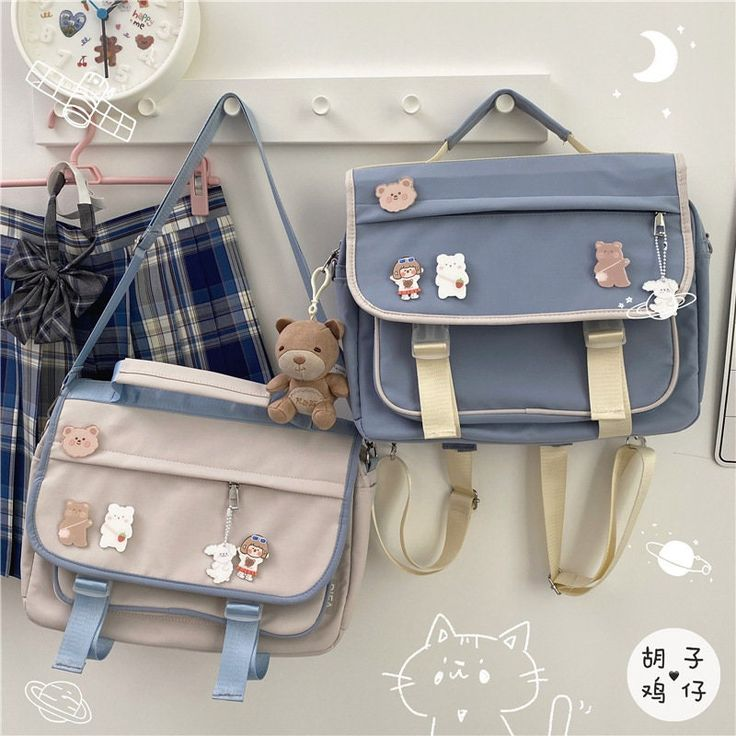nylon: (26, 88, 711, 701)
